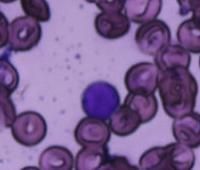L: (80, 79, 120, 119)
